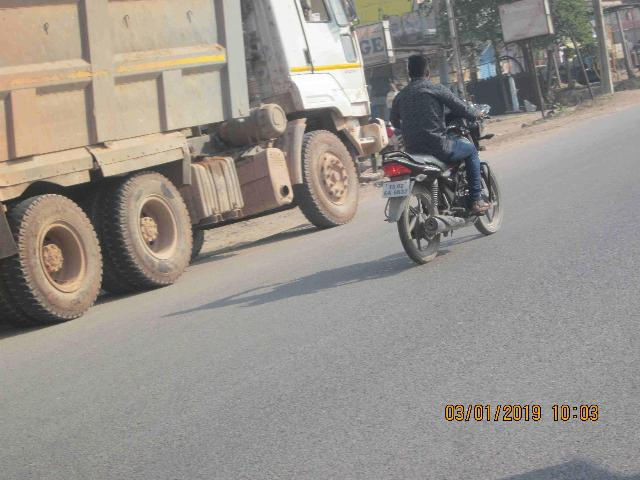motor: (375, 145, 504, 265)
non-helm: (409, 55, 431, 81)
